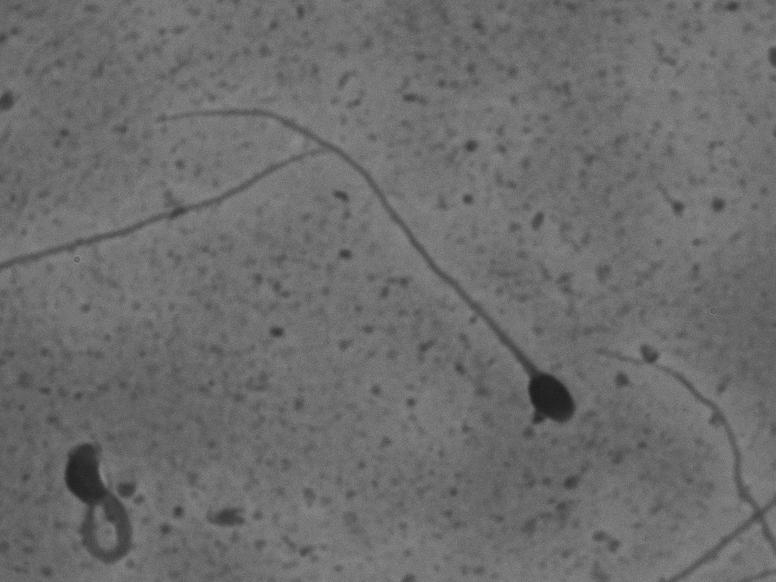Abnormal: (37, 421, 165, 569)
Normal: (125, 53, 607, 466)
